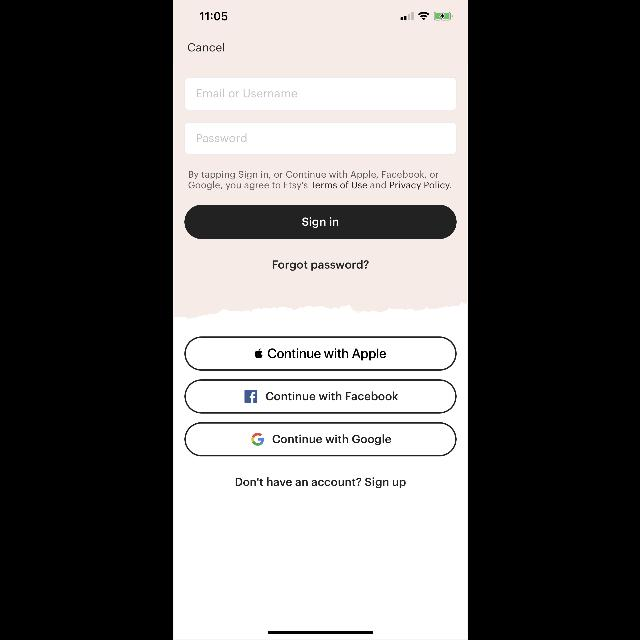input: (184, 122, 456, 154), (184, 78, 456, 110), (188, 170, 450, 190)
text: (235, 478, 405, 488), (272, 260, 368, 270), (196, 89, 296, 97), (196, 134, 246, 142), (187, 42, 223, 52)
textbutton: (184, 337, 456, 371), (184, 379, 456, 413), (184, 422, 456, 456), (184, 205, 456, 239)
uppertaskbar: (198, 12, 452, 21)
